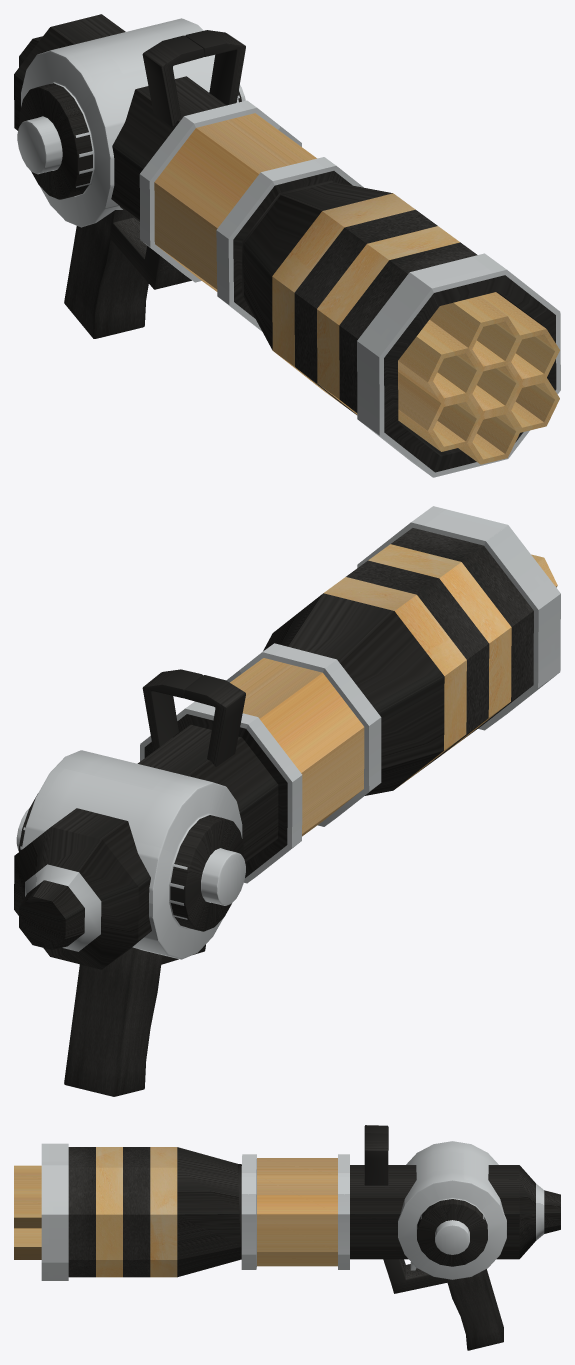
The model's file is pollinator_f6000.fbx.
3 views of the same model, one above another, from view 1: azimuth 30°, elevation 25°; view 2: azimuth 150°, elevation 25°; view 3: azimuth 270°, elevation 25° (orthographic). The views are drawn at different scales.
Visible parts, largest first — view 1: Barrel, Stock, Honeycomb001, PollenMag; view 2: Stock, Barrel, PollenMag; view 3: Stock, Barrel, PollenMag, Honeycomb001.
Boxes of the visible parts, box(x1,y1,x2,y2) form: Barrel: box(216, 157, 560, 477); Stock: box(14, 14, 301, 338); Honeycomb001: box(398, 292, 559, 464); PollenMag: box(154, 113, 316, 291); Stock: box(14, 669, 302, 1096); Barrel: box(226, 506, 560, 826); PollenMag: box(230, 658, 364, 836); Stock: box(338, 1125, 560, 1350); Barrel: box(41, 1143, 256, 1280); PollenMag: box(257, 1158, 337, 1266); Honeycomb001: box(14, 1165, 41, 1259).
Bounding box in the file's own units: 5.93 × 9.78 × 23.
4 materials, 4 textured.
